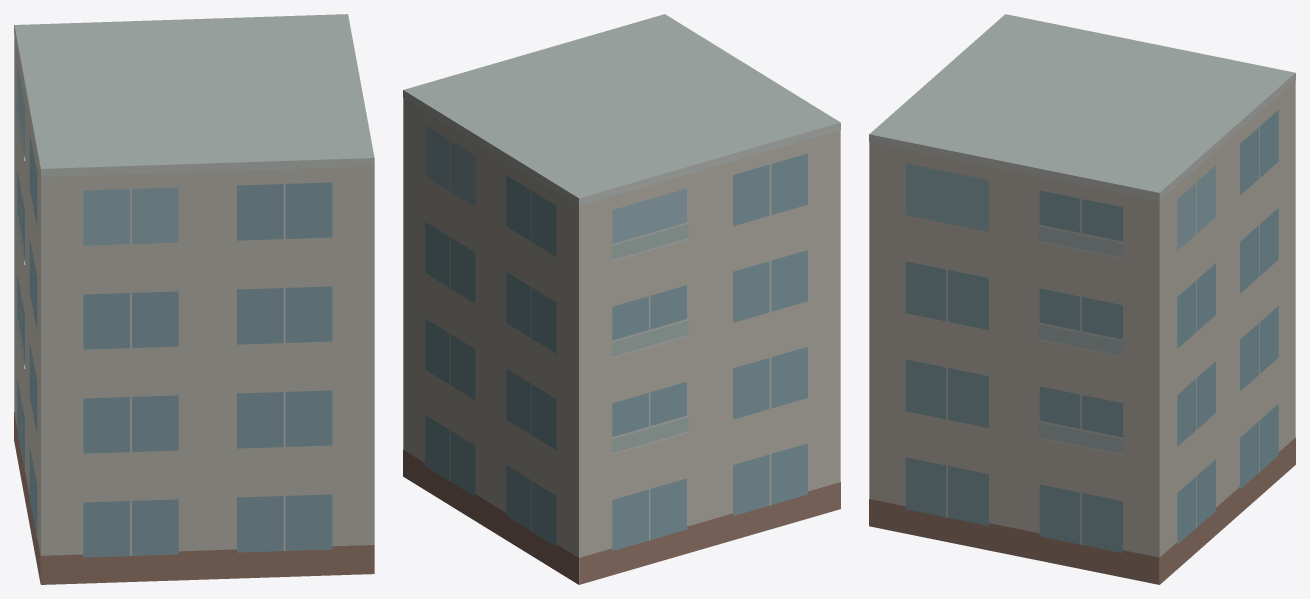
File: residential-e40ffa9a-6469-4133-8084-8835774a46d6.glb
3 views of the same model, side by side, from view 1: azimuth 30°, elevation 25°; view 2: azimuth 150°, elevation 25°; view 3: azimuth 270°, elevation 25° (orthographic). The views are drawn at different scales.
Visible parts, largest first — view 1: residential-e40ffa9a-6469-4133-8084-8835774a46d6.tmp; view 2: residential-e40ffa9a-6469-4133-8084-8835774a46d6.tmp; view 3: residential-e40ffa9a-6469-4133-8084-8835774a46d6.tmp.
Part boxes in pixels (left/top/right/bottom): residential-e40ffa9a-6469-4133-8084-8835774a46d6.tmp: left=14, top=14, right=374, bottom=584; residential-e40ffa9a-6469-4133-8084-8835774a46d6.tmp: left=403, top=14, right=840, bottom=584; residential-e40ffa9a-6469-4133-8084-8835774a46d6.tmp: left=869, top=14, right=1295, bottom=584.
Size of the model in its own units: 11.95 by 12.2 by 12.04.
